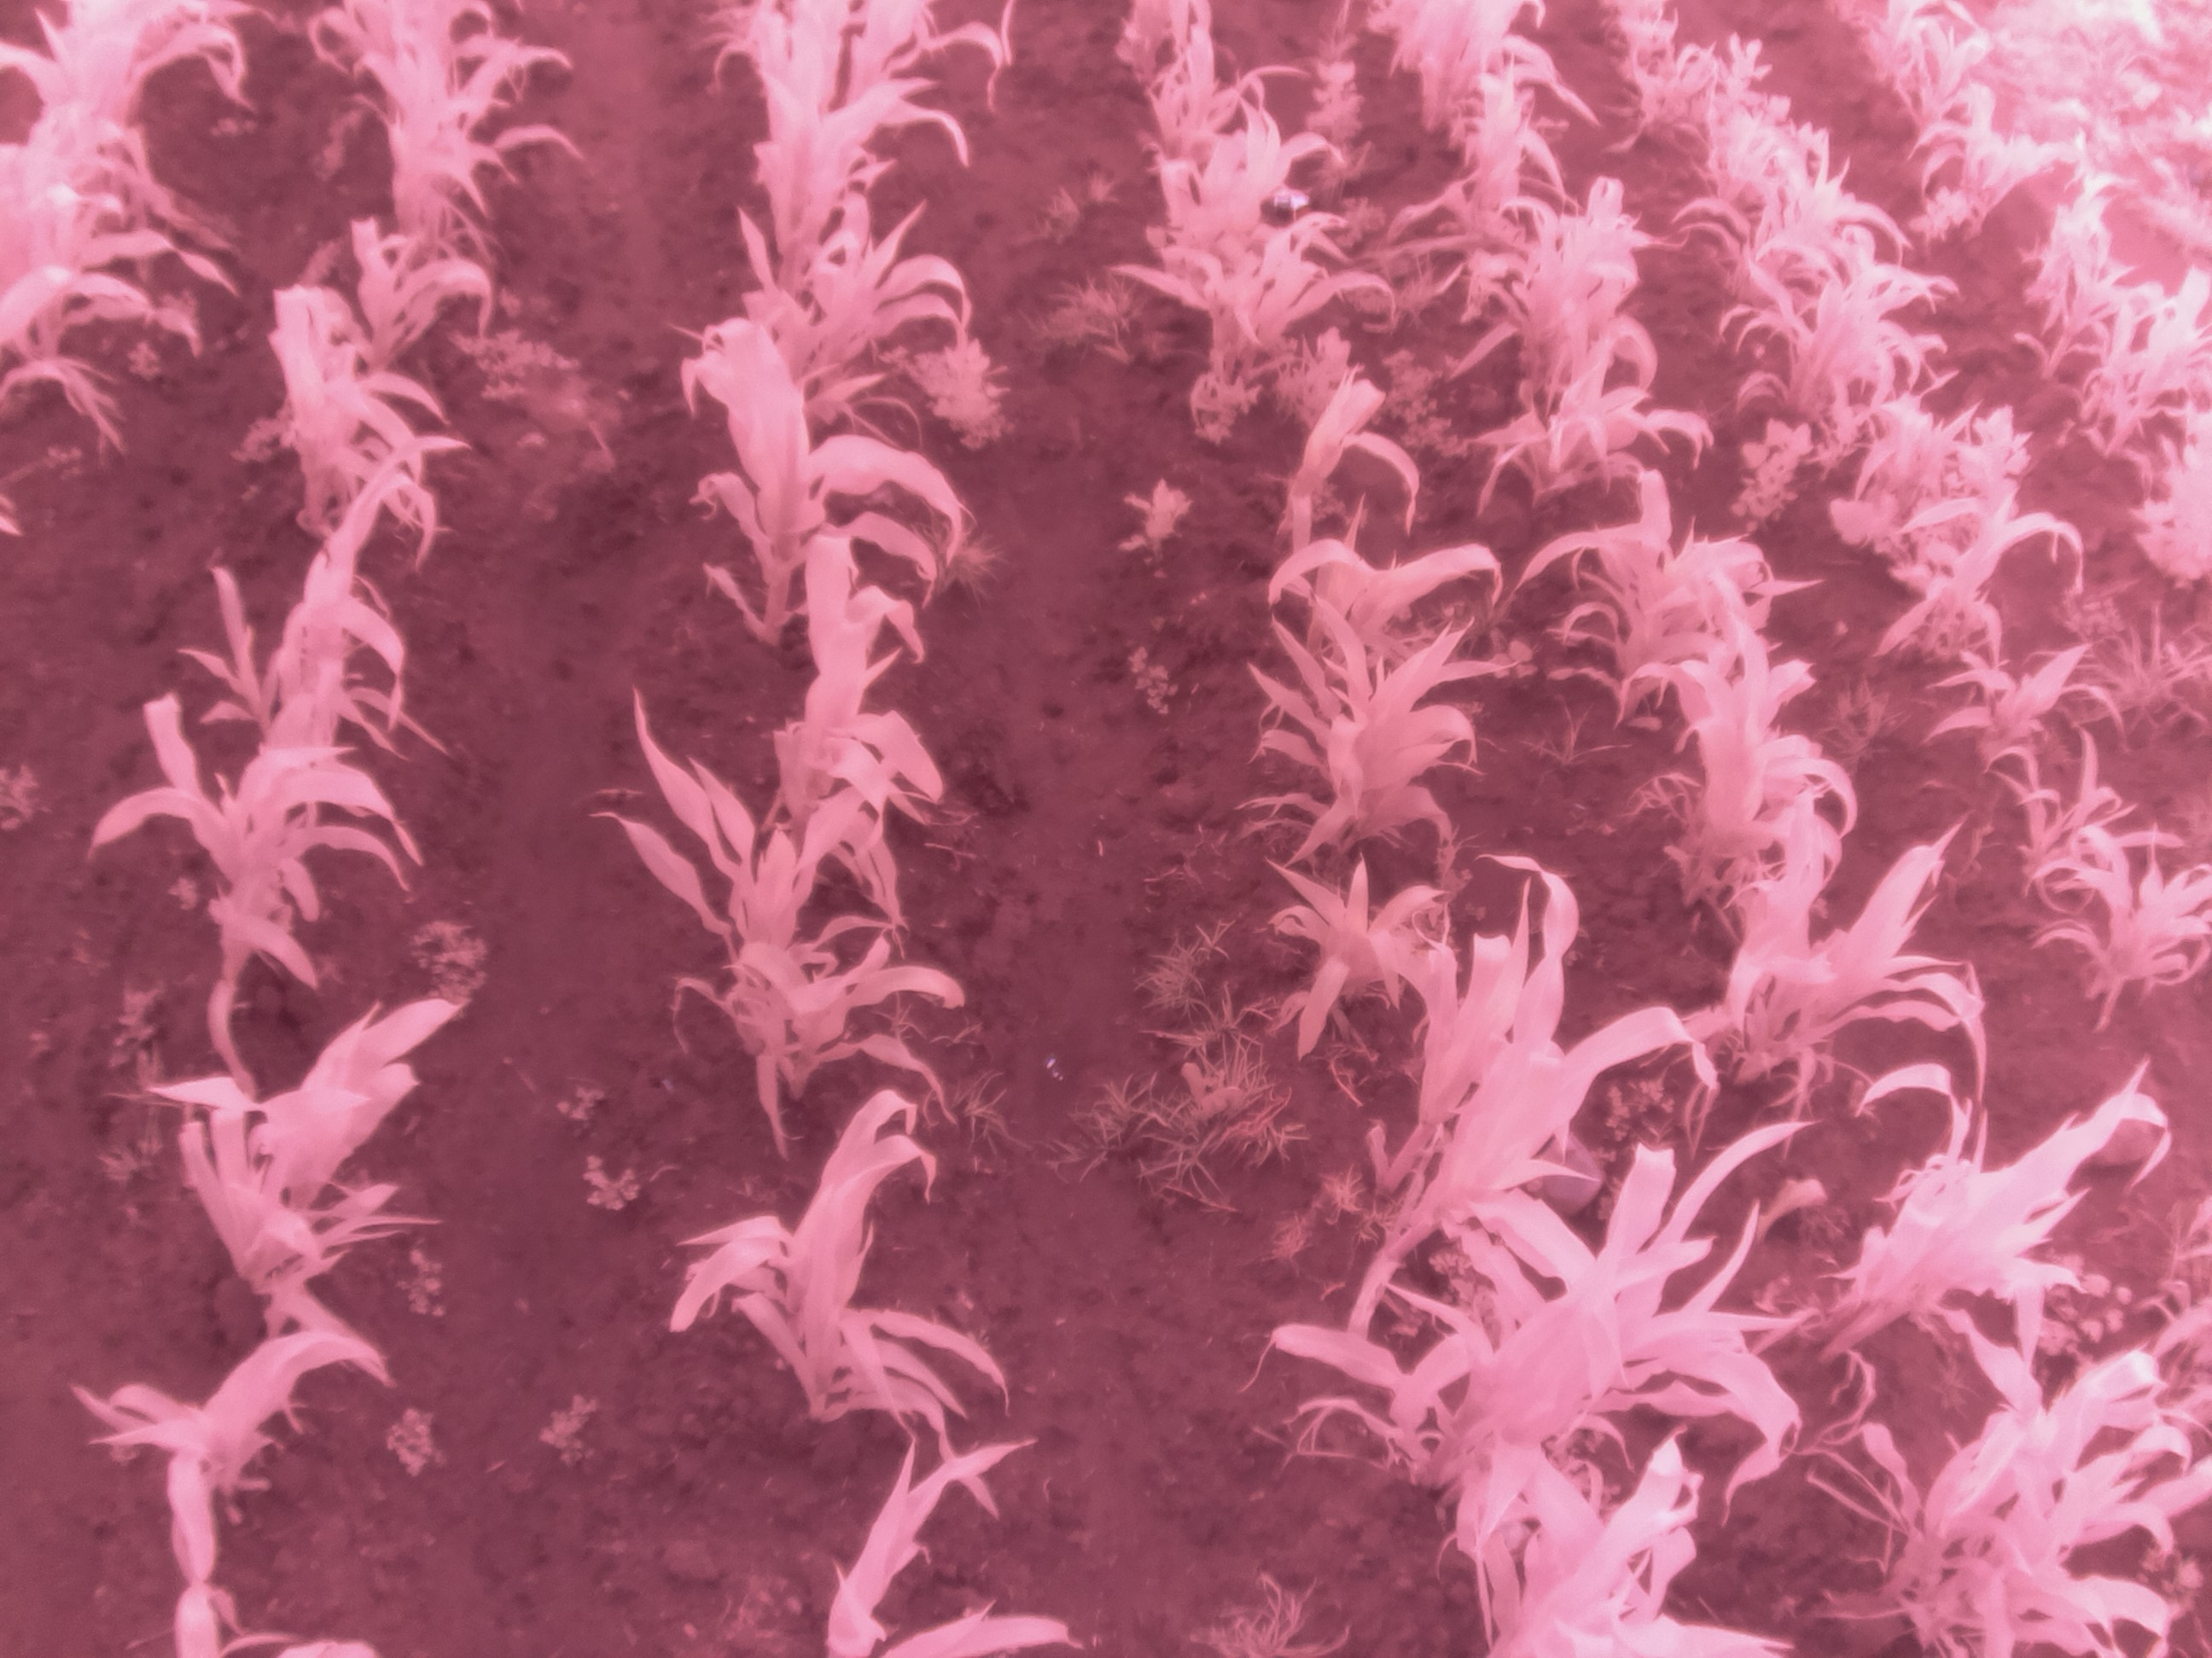Maiz: (1364, 874, 1710, 1291), (615, 705, 963, 1108), (71, 1003, 514, 1291), (1413, 1156, 1813, 1472), (653, 298, 975, 664), (660, 1111, 1022, 1432), (61, 686, 420, 989), (705, 155, 982, 455), (174, 514, 453, 791), (712, 38, 974, 333), (31, 1324, 420, 1520), (1695, 878, 1998, 1129), (1249, 597, 1503, 895), (1529, 505, 1822, 756), (773, 1435, 1099, 1656), (1846, 1115, 2165, 1331), (1951, 1386, 2186, 1651), (1463, 1470, 1787, 1658), (784, 510, 956, 855), (1728, 192, 1972, 425), (253, 272, 446, 564), (1914, 1334, 2120, 1604), (1264, 505, 1519, 723), (1144, 200, 1397, 395), (1662, 627, 1853, 876), (1463, 308, 1723, 491), (1465, 174, 1653, 421), (287, 188, 510, 392), (1261, 845, 1487, 1043), (345, 33, 531, 268), (749, 0, 946, 218), (21, 0, 169, 263), (1928, 416, 2087, 657), (2024, 827, 2212, 1026), (1911, 641, 2127, 813), (1251, 371, 1430, 561), (1712, 145, 1892, 331), (1129, 94, 1334, 256), (7, 132, 146, 361), (1914, 82, 2085, 253), (1958, 740, 2146, 888), (1433, 47, 1559, 266), (2088, 282, 2212, 462), (1132, 16, 1287, 155), (2040, 172, 2132, 401), (1707, 104, 1822, 280), (1418, 0, 1566, 136), (1883, 10, 2001, 165), (1874, 364, 1963, 557), (1683, 42, 1782, 211), (2137, 383, 2212, 576), (1639, 35, 1716, 157)
